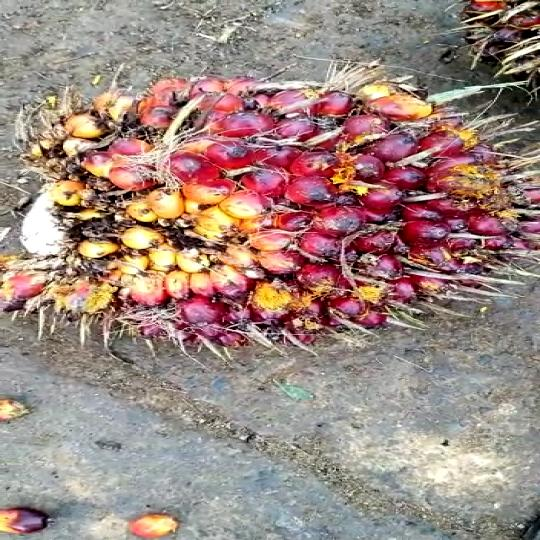masak: (0, 70, 528, 353)
